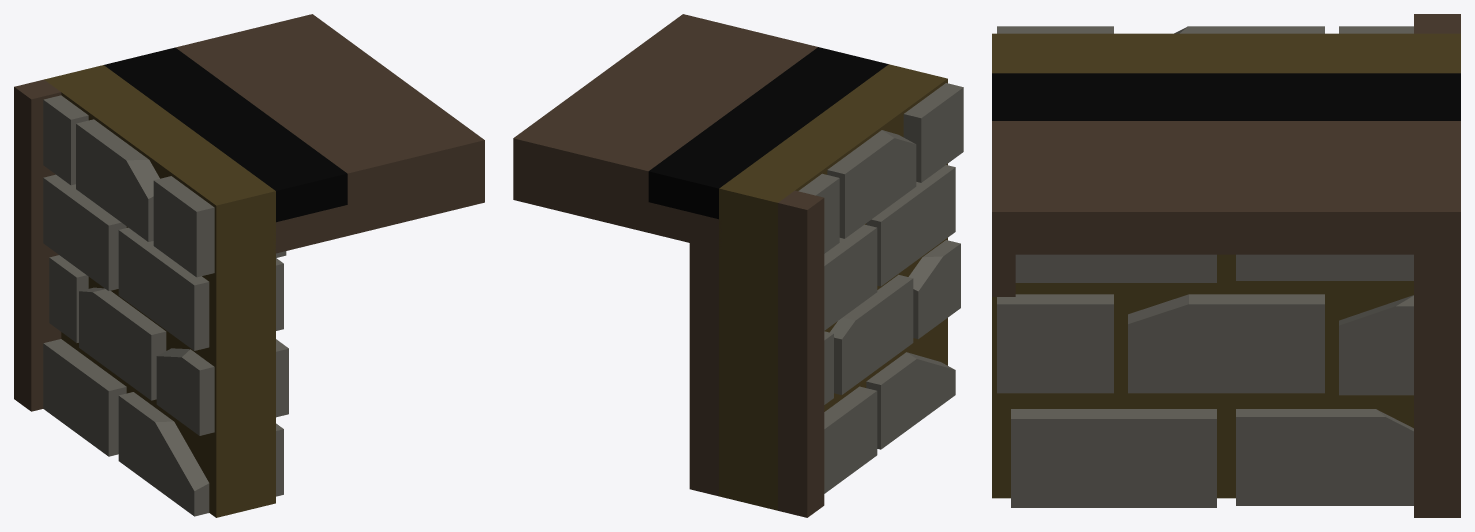
Rendered from A_BrickWallFloor07.fbx.
The picture shows the model from 3 angles, left to right: view 1: azimuth 30°, elevation 25°; view 2: azimuth 150°, elevation 25°; view 3: azimuth 270°, elevation 25°; orthographic projection. The views are drawn at different scales.
Visible parts, largest first — view 1: A_BrickWallFloor07; view 2: A_BrickWallFloor07; view 3: A_BrickWallFloor07.
Part boxes in pixels (bbox=[...]): A_BrickWallFloor07: bbox=[14, 14, 484, 517]; A_BrickWallFloor07: bbox=[513, 14, 963, 517]; A_BrickWallFloor07: bbox=[992, 14, 1460, 517].
Size of the model in its own units: 100 by 100 by 100.
